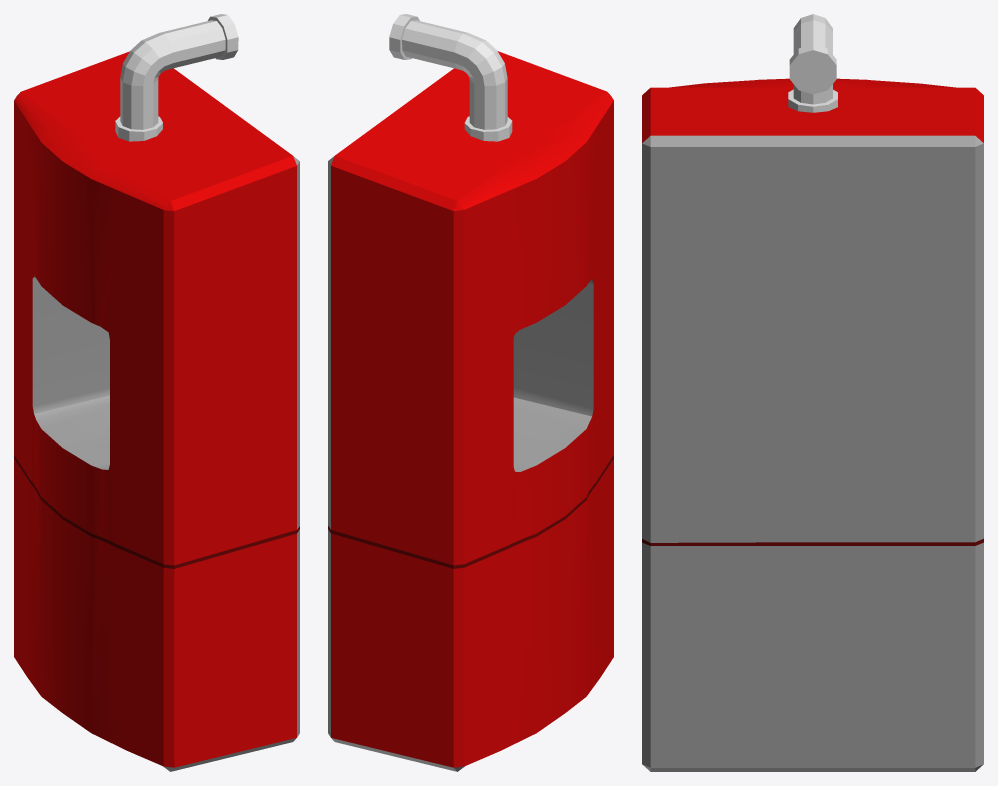
File: BaconBox.fbx
3 renders of one model, left to right at view 1: azimuth 30°, elevation 25°; view 2: azimuth 150°, elevation 25°; view 3: azimuth 270°, elevation 25°, orthographic. The views are drawn at different scales.
Visible parts, largest first — view 1: BaconBoxBody, BaconBoxPipe; view 2: BaconBoxBody, BaconBoxPipe; view 3: BaconBoxBody, BaconBoxPipe.
Boxes of the visible parts, x1,y1,x2,y2 form: BaconBoxBody: [14, 51, 299, 771]; BaconBoxPipe: [115, 14, 238, 141]; BaconBoxBody: [328, 51, 613, 771]; BaconBoxPipe: [389, 14, 512, 141]; BaconBoxBody: [642, 78, 983, 771]; BaconBoxPipe: [788, 14, 837, 112].
Bounding box in the file's own units: 0.6064 × 2.35 × 1.
